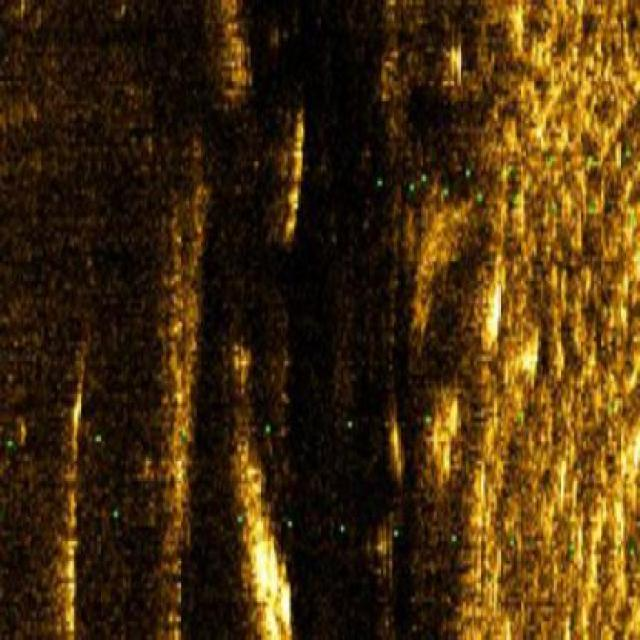bedrock group: (387, 0, 638, 638)
